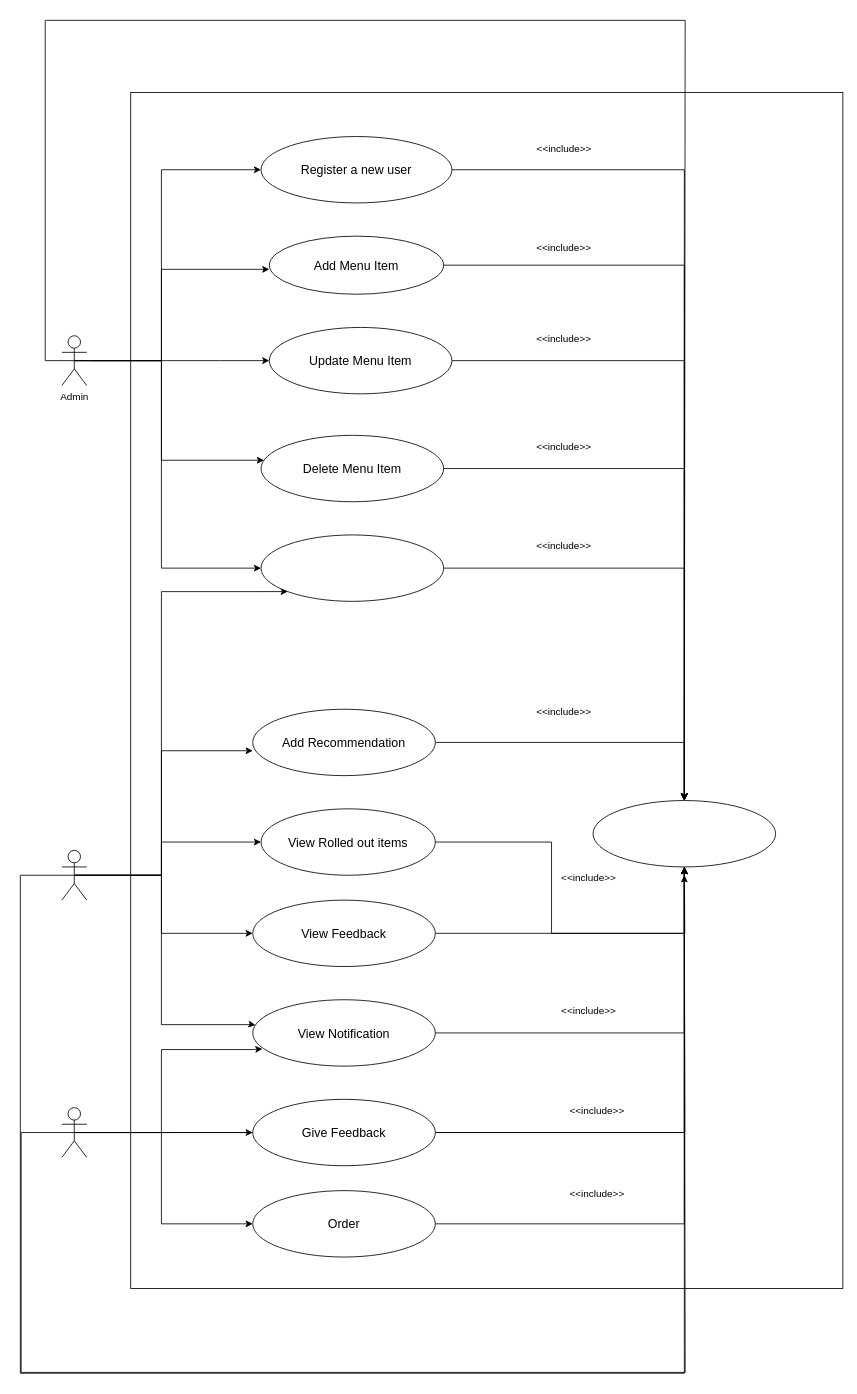
Image size: 857x1394. Some labels were removed from this diagram. Each missing label, with the centre of its shape:
"Chef" goes at (74,875).
"Employee" goes at (74,1132).
"Login" goes at (684,833).
"View Menu" goes at (352,567).
